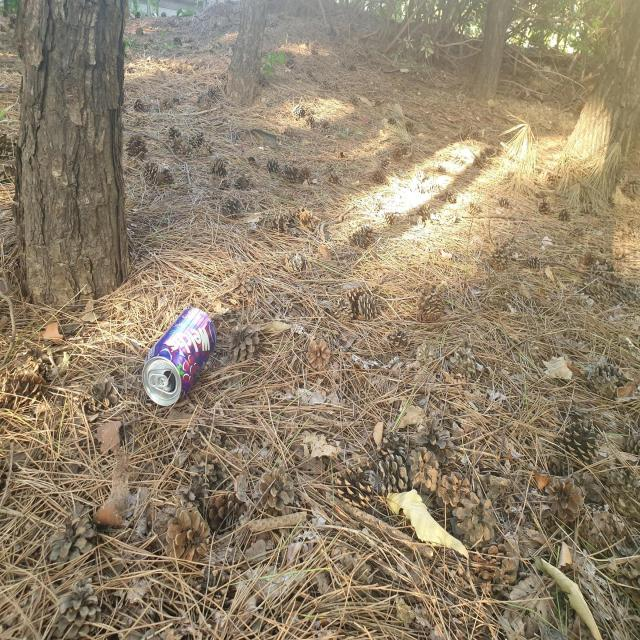can: (142, 308, 216, 406)
